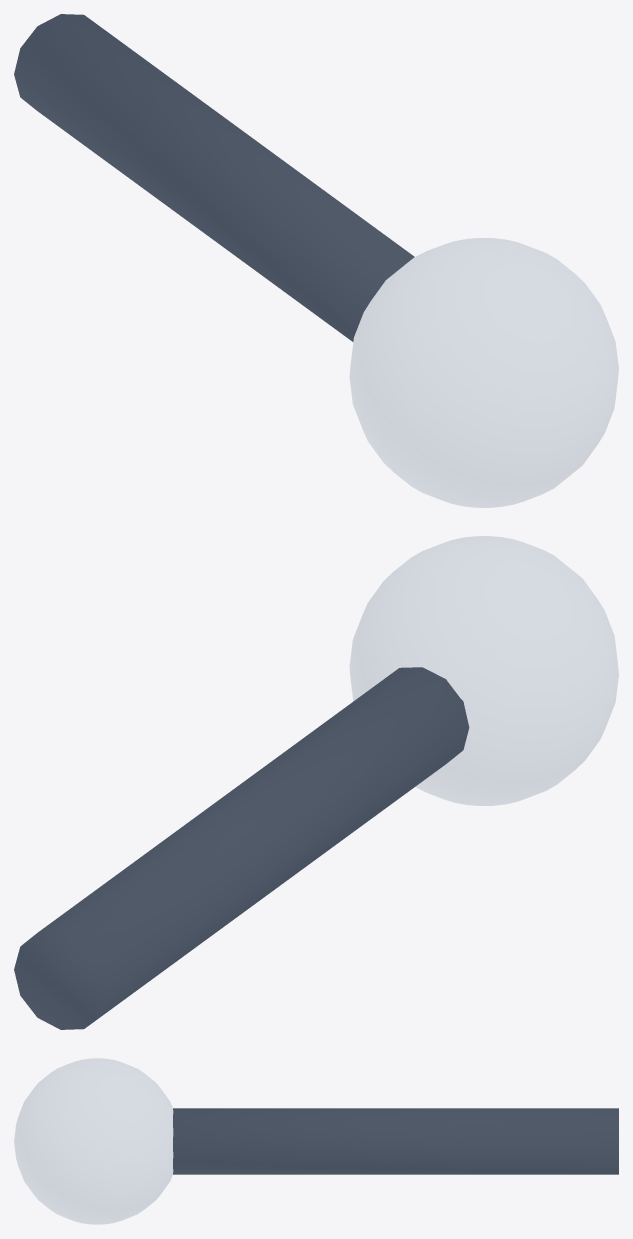
Rendered from palanca_mango.glb.
3 views of the same model, one above another, from view 1: azimuth 30°, elevation 25°; view 2: azimuth 150°, elevation 25°; view 3: azimuth 270°, elevation 25° (orthographic). The views are drawn at different scales.
Visible parts, largest first — view 1: Sphere.020, Cylinder.072; view 2: Cylinder.072, Sphere.020; view 3: Cylinder.072, Sphere.020.
Boxes of the visible parts, bbox=[...] form: Sphere.020: bbox=[349, 238, 618, 507]; Cylinder.072: bbox=[14, 14, 414, 341]; Cylinder.072: bbox=[14, 667, 469, 1029]; Sphere.020: bbox=[349, 536, 618, 805]; Cylinder.072: bbox=[173, 1108, 618, 1174]; Sphere.020: bbox=[14, 1058, 173, 1224].
Size of the model in its own units: 0.03 by 0.03 by 0.109.
